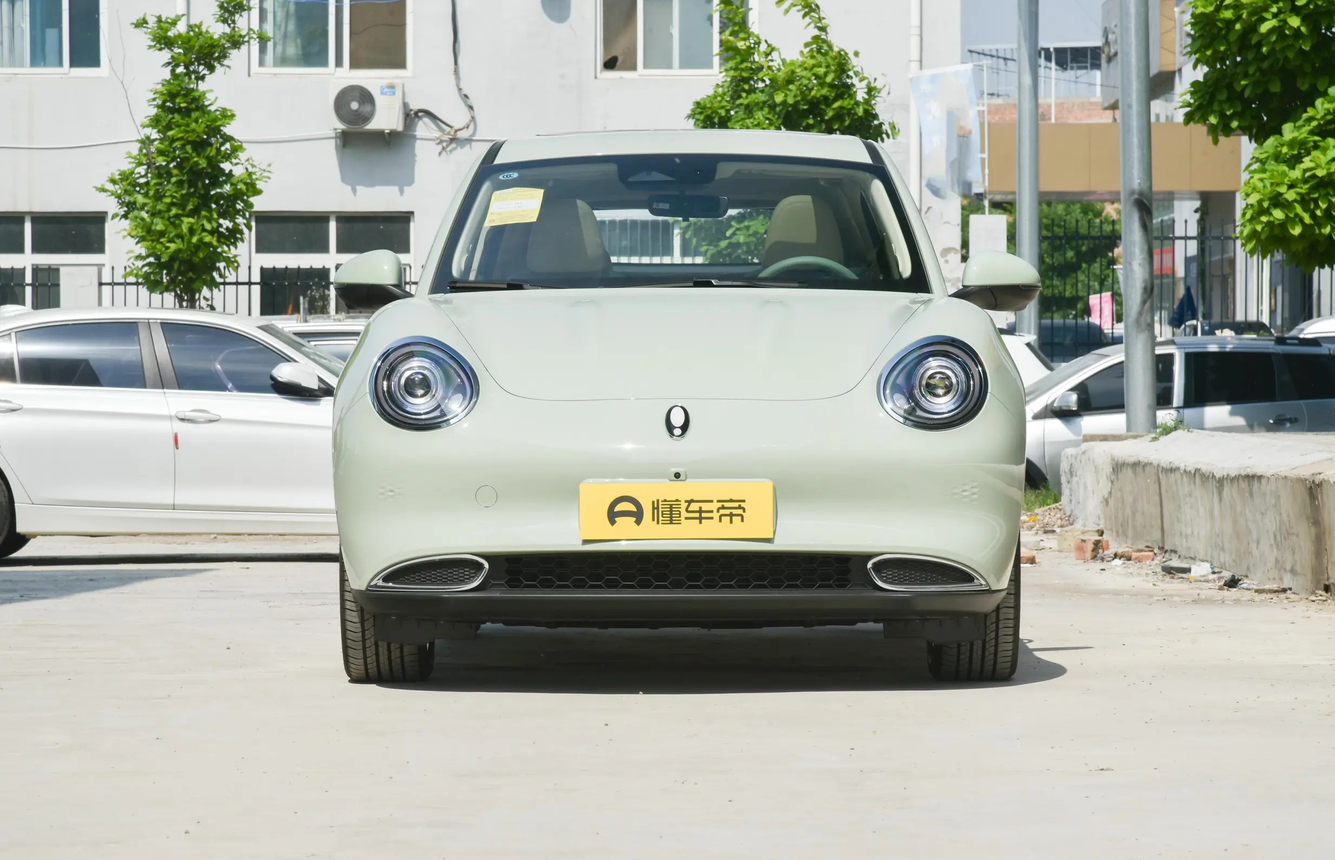ORA: (665, 405, 689, 440)
